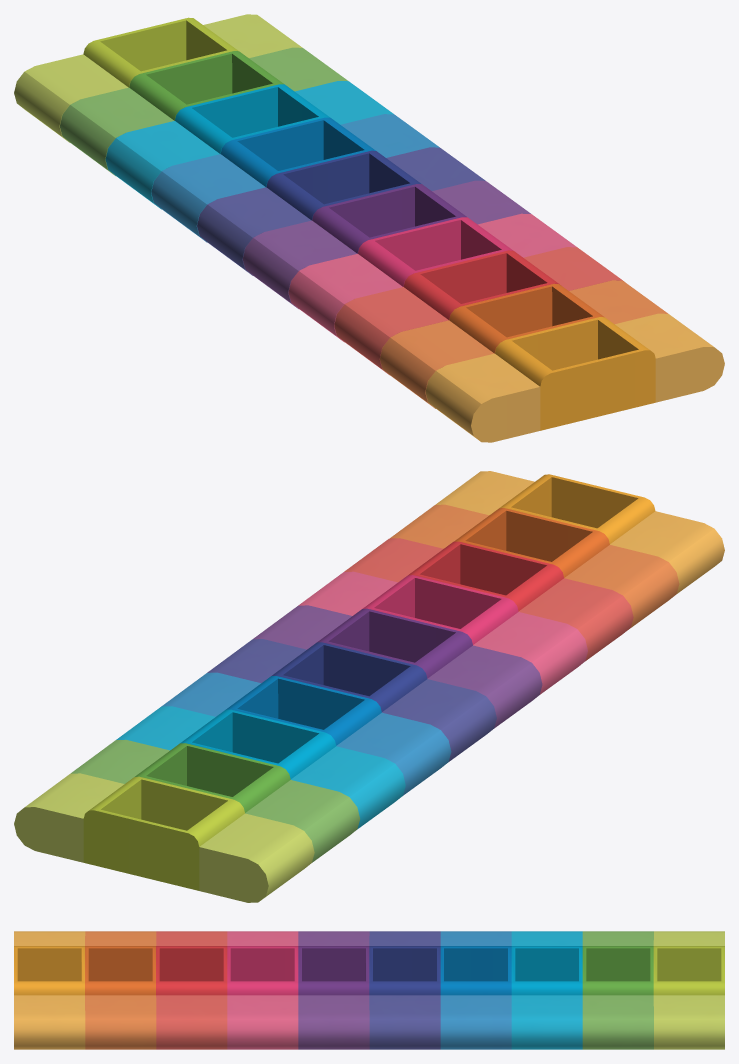
File: final-platform.fbx
3 views of the same model, one above another, from view 1: azimuth 30°, elevation 25°; view 2: azimuth 150°, elevation 25°; view 3: azimuth 270°, elevation 25° (orthographic). The views are drawn at different scales.
Parts seen in each view (by area): view 1: x10, x8, x4, x3, x2, x7, x6, x5, x1, x9; view 2: x1, x6, x3, x4, x10, x8, x5, x2, x7, x9; view 3: x2, x3, x4, x5, x6, x7, x8, x9, x1, x10.
Part boxes in pixels (box(x1,y1,x2,y2)): x10: box(425, 313, 724, 442); x8: box(334, 247, 622, 374); x4: box(151, 114, 439, 242); x3: box(105, 81, 393, 209); x2: box(59, 47, 348, 175); x7: box(288, 213, 576, 342); x6: box(242, 180, 530, 308); x5: box(197, 147, 485, 275); x1: box(14, 14, 302, 142); x9: box(380, 280, 668, 408); x1: box(14, 773, 314, 902); x6: box(253, 605, 542, 728); x3: box(116, 706, 405, 829); x4: box(161, 672, 451, 795); x10: box(435, 471, 724, 593); x8: box(344, 538, 633, 661); x5: box(207, 639, 496, 761); x2: box(71, 739, 359, 862); x7: box(298, 571, 587, 694); x9: box(390, 504, 679, 629); x2: box(582, 931, 653, 1049); x3: box(511, 931, 582, 1049); x4: box(440, 931, 511, 1049); x5: box(369, 931, 440, 1049); x6: box(298, 931, 369, 1049); x7: box(227, 931, 298, 1049); x8: box(156, 931, 227, 1049); x9: box(85, 931, 156, 1049); x1: box(653, 931, 724, 1049); x10: box(14, 931, 85, 1049).
Bounding box in the file's own units: 15211 × 3166 × 47007.
Materials: 1 (1 with a texture image).
